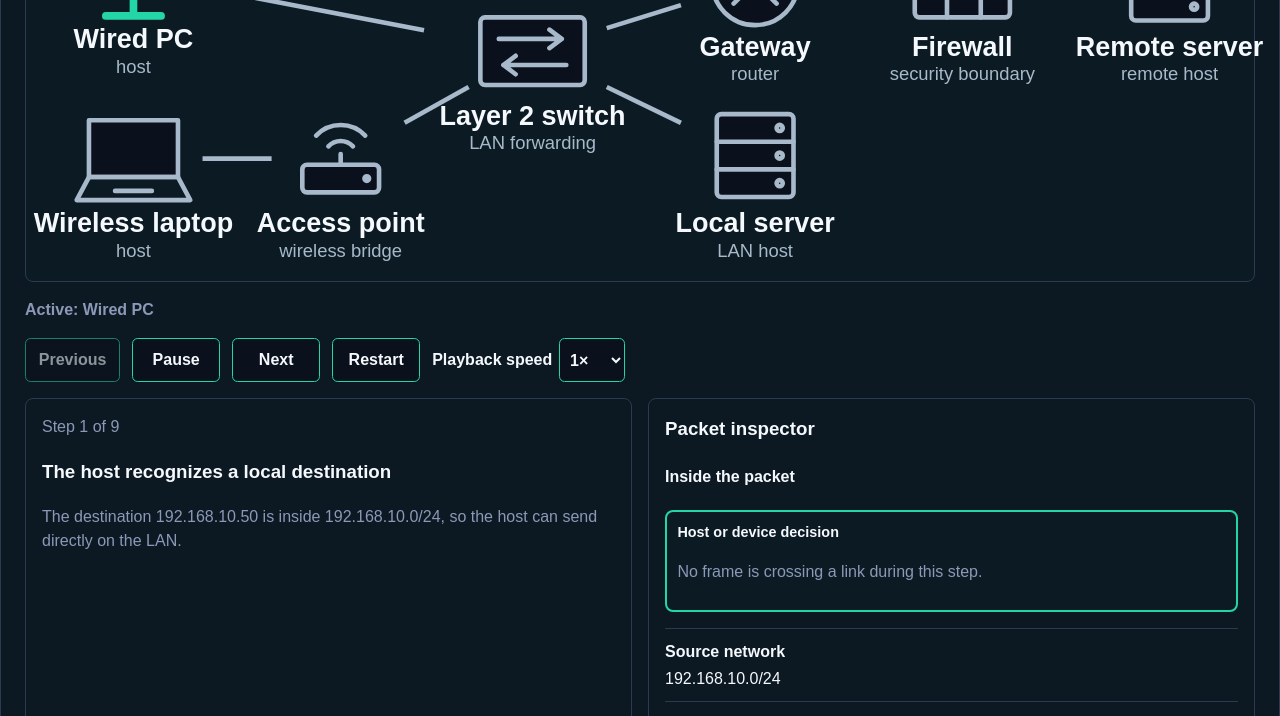
Test: HostsAndDevicesExperience › offers four journeys and resets playback when the learner changes journey
(page scrolled)
Click the button "Next": (276, 360) [232,338,320,382]
(page scrolled)
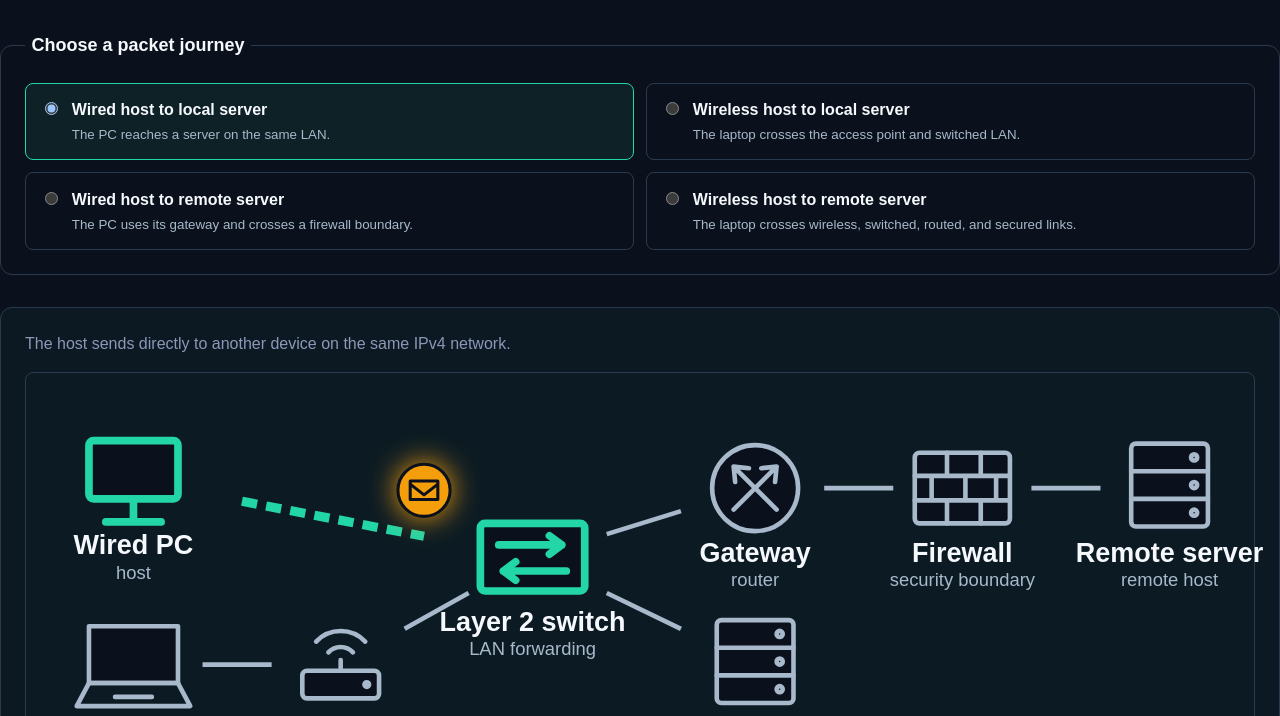
Click the radio button labelled "Wireless host to remote server": (673, 198) [666,192,679,205]
(page scrolled)
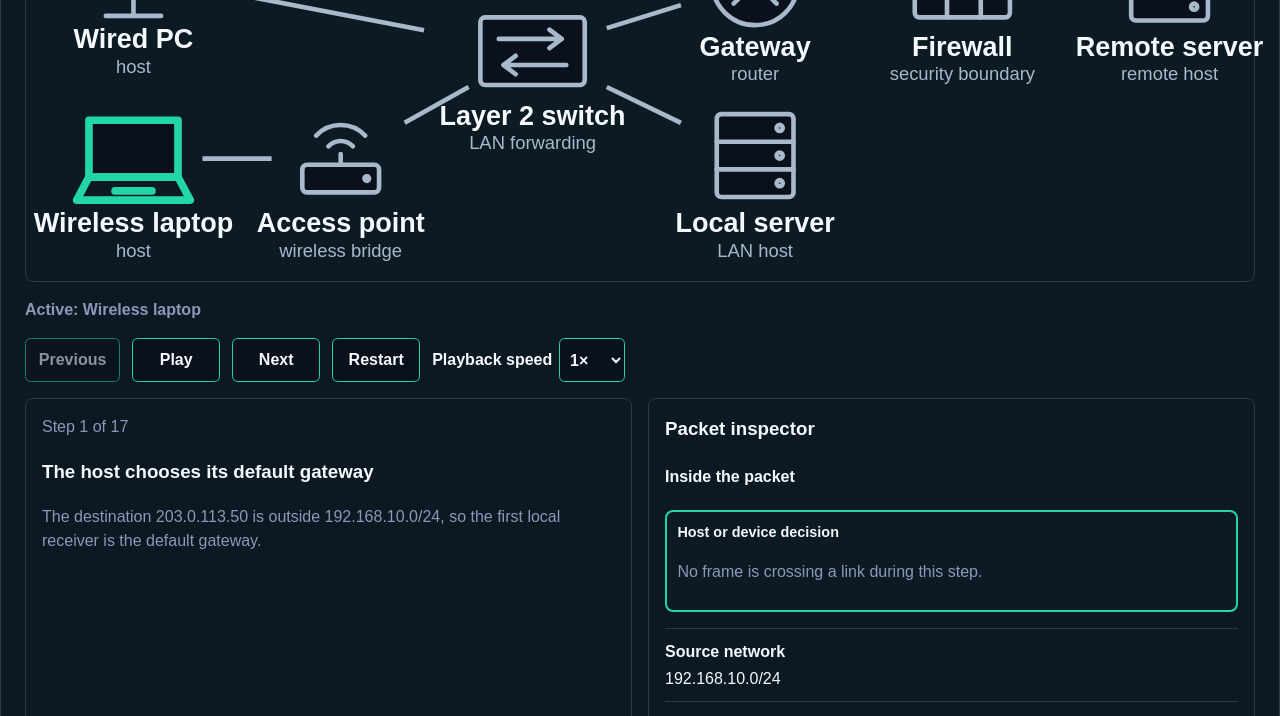
Check: the button "Play" is shown, box [132,338,220,382]
Check: the text "Step 1 of 17" is shown, box [42,418,128,435]
